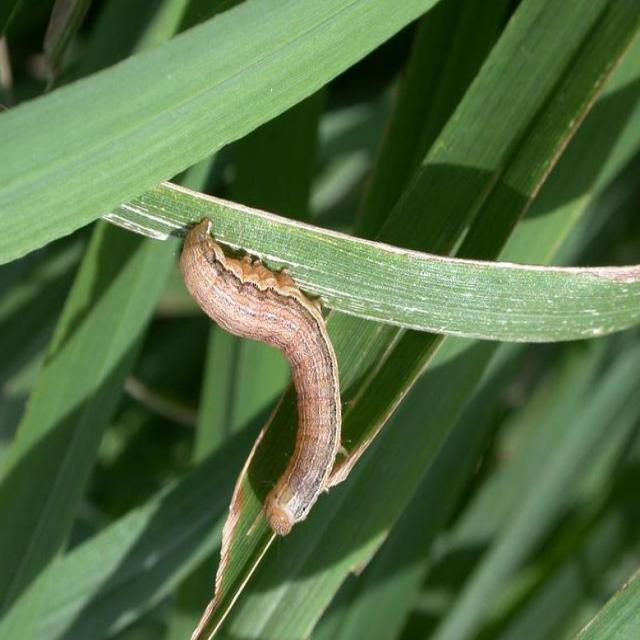army worm: (175, 213, 345, 541)
